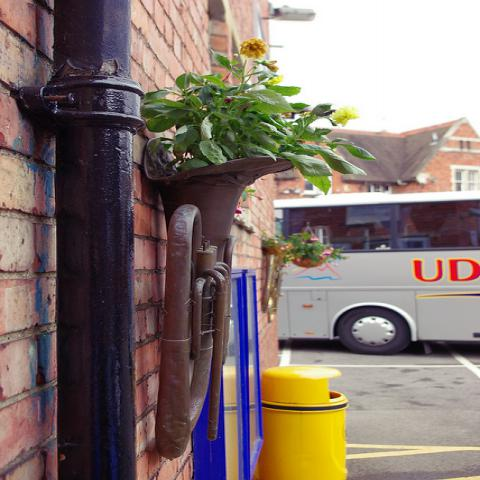bus: (276, 192, 479, 351)
